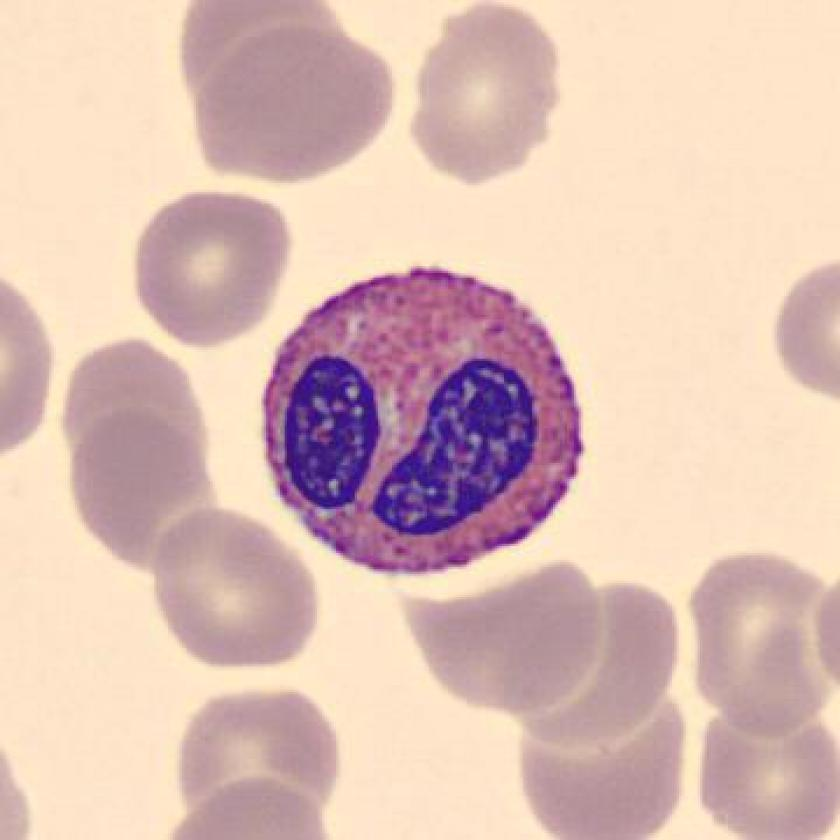eosinophil: (246, 251, 603, 589)
